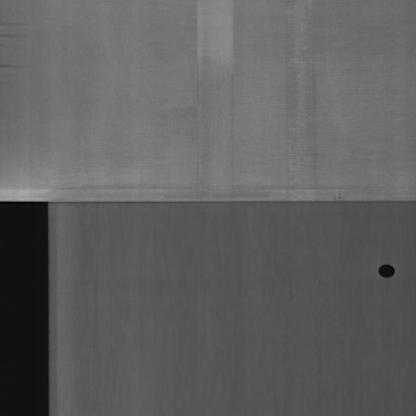punching_hole: (373, 258, 399, 284)
welding_line: (0, 189, 416, 213)
